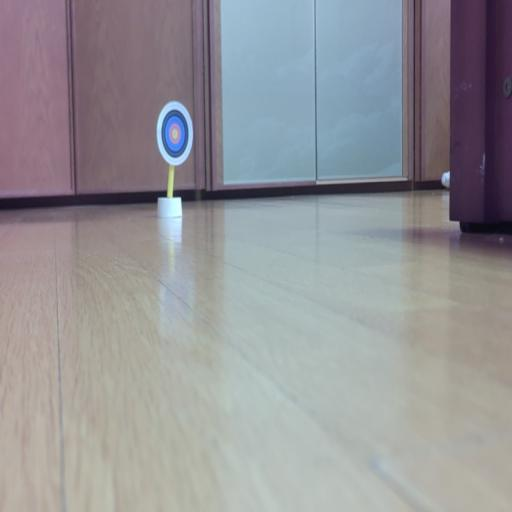target: (157, 101, 193, 166)
